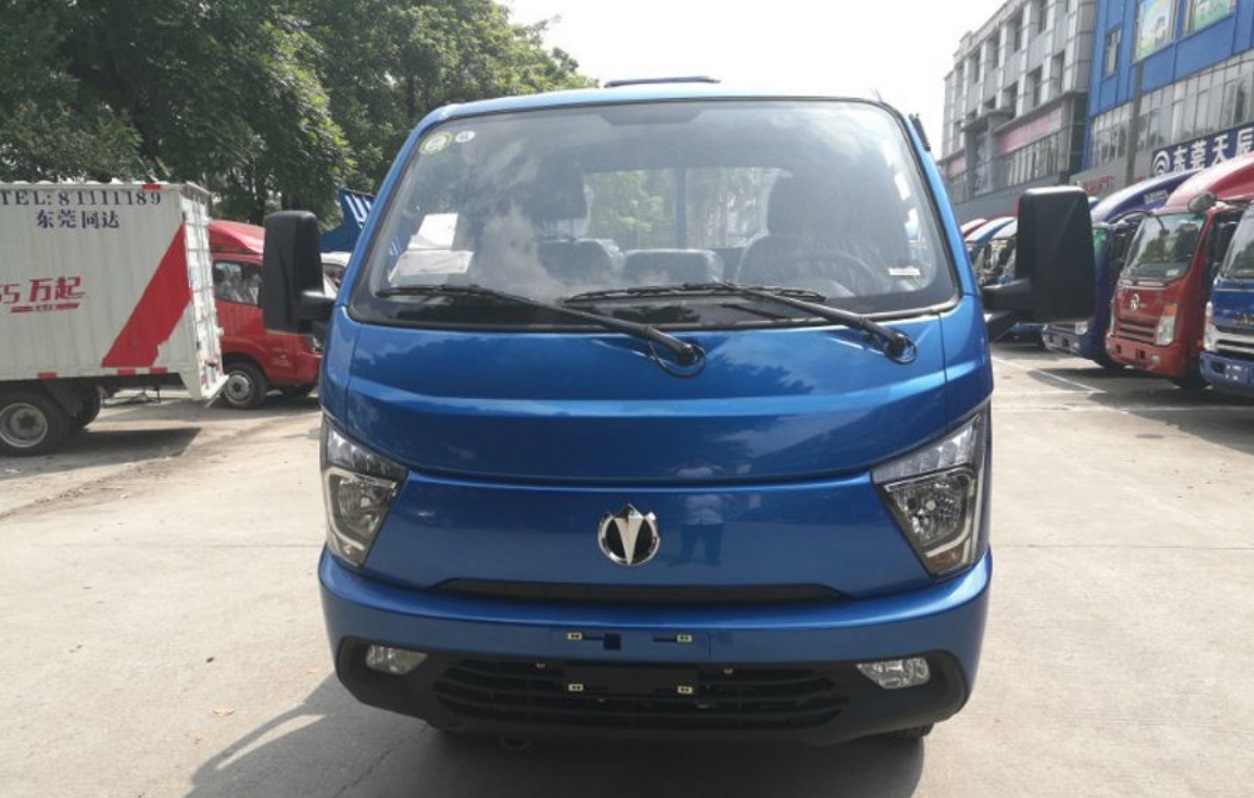truck: (279, 49, 1029, 774)
